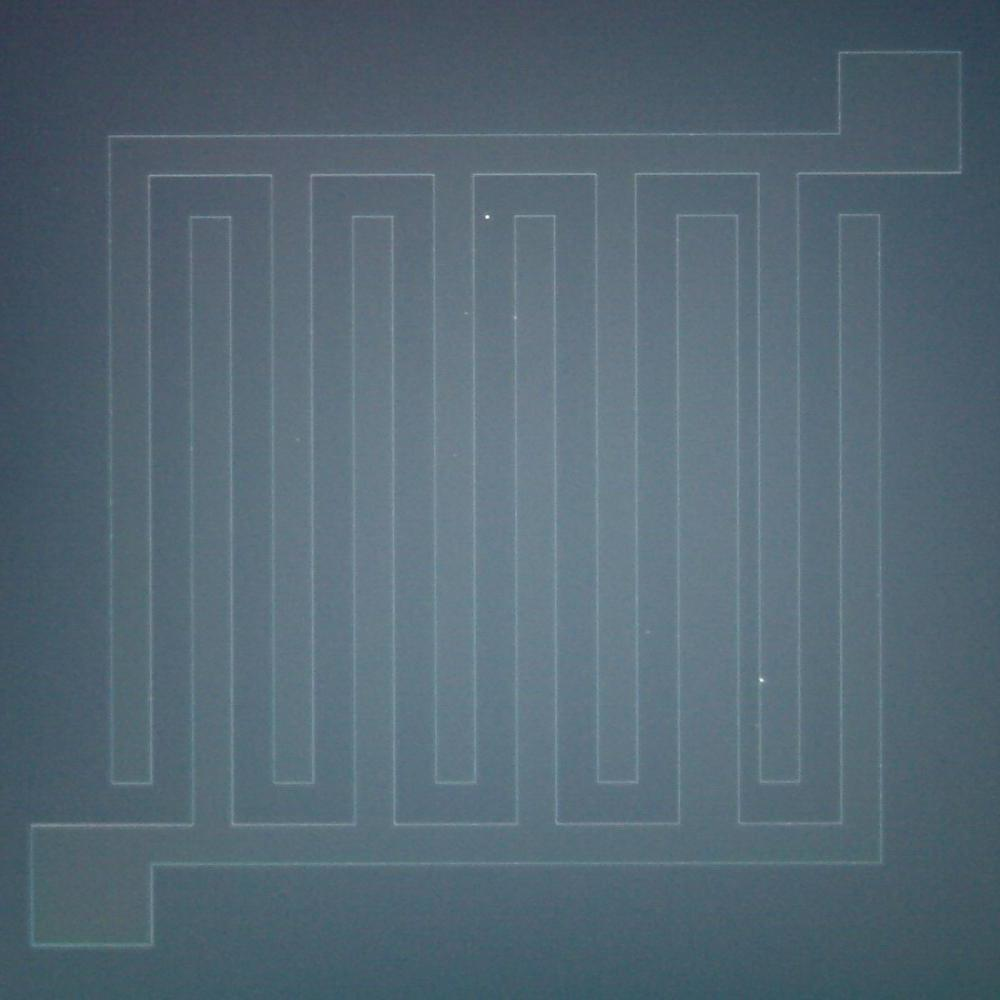dot: (474, 203, 505, 237), (752, 665, 776, 692)
fat circuit: (666, 205, 746, 841)
